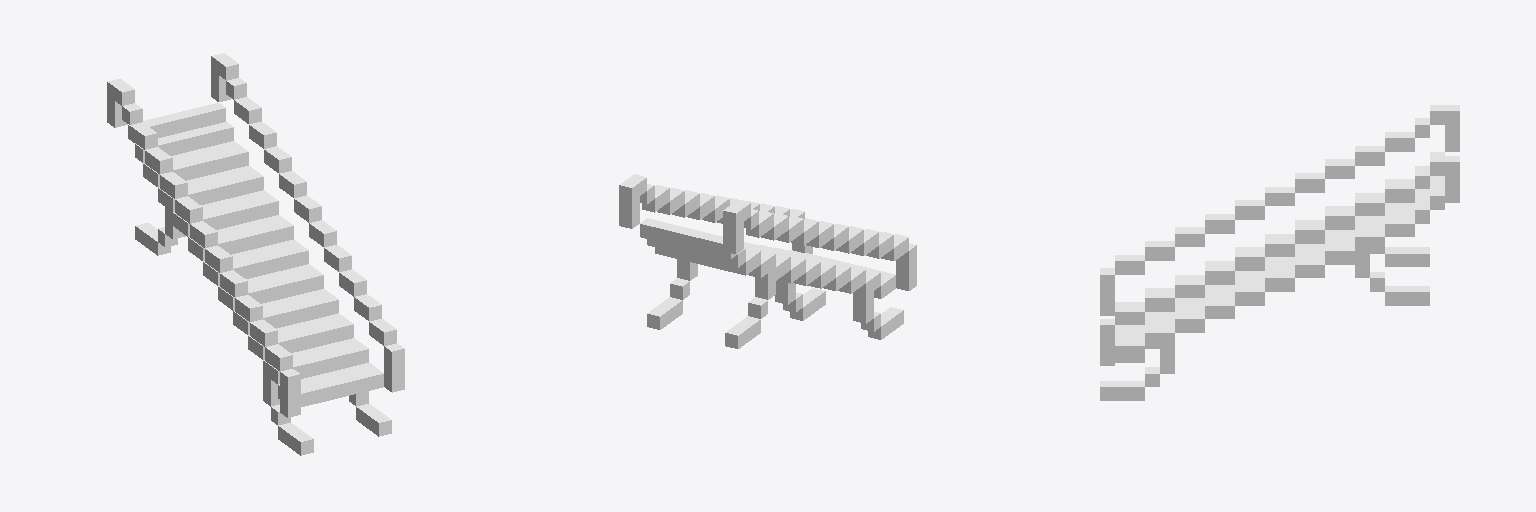
Rendered from ledder.obj.
The picture shows the model from 3 angles: view 1: azimuth 30°, elevation 25°; view 2: azimuth 150°, elevation 25°; view 3: azimuth 270°, elevation 25°; orthographic projection.
Parts seen in each view (by area): view 1: object 1; view 2: object 1; view 3: object 1.
Part boxes in pixels (x1,y1,x2,y2): object 1: (107, 53, 404, 455); object 1: (619, 174, 916, 348); object 1: (1100, 105, 1459, 400).
Bounding box in the file's own units: 0.9 × 1.8 × 2.4.